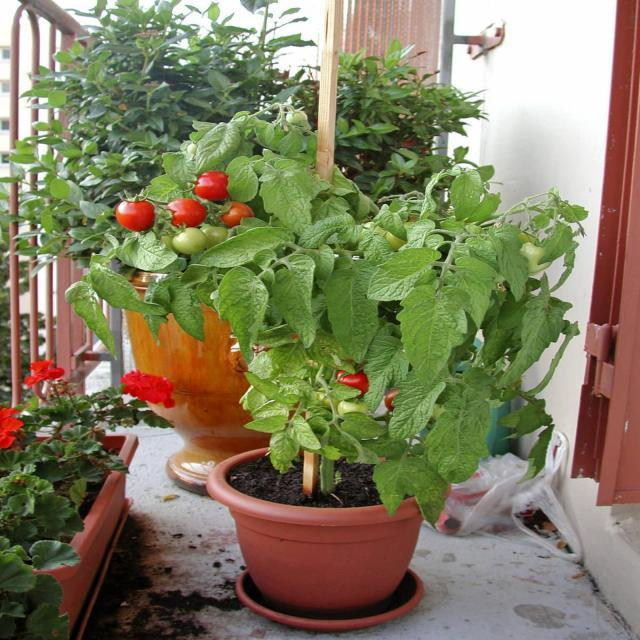plant: (8, 0, 311, 264), (0, 361, 171, 640), (335, 39, 485, 199)
tomato: (65, 102, 586, 522)
